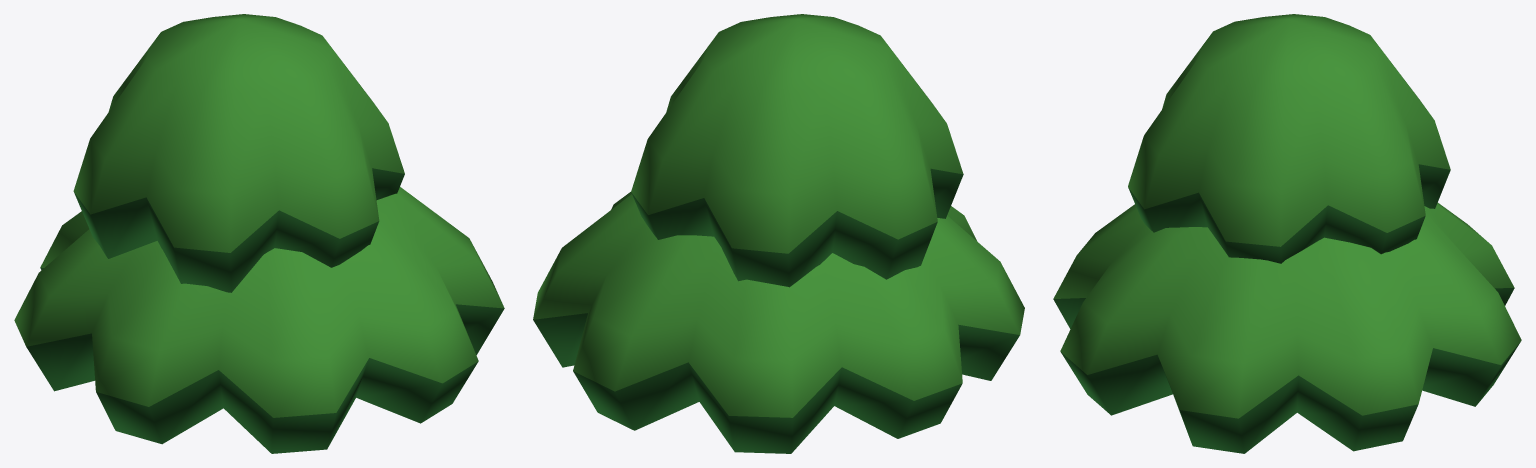
The model's file is bush_3.glb.
The picture shows the model from 3 angles, left to right: view 1: azimuth 30°, elevation 25°; view 2: azimuth 150°, elevation 25°; view 3: azimuth 270°, elevation 25°; orthographic projection. The views are drawn at different scales.
Parts seen in each view (by area): view 1: Prop; view 2: Prop; view 3: Prop.
Part boxes in pixels (box(x1,y1,x2,y2)): Prop: box(14, 14, 504, 453); Prop: box(533, 14, 1024, 453); Prop: box(1053, 14, 1521, 453).
Size of the model in its own units: 1.44 by 1.15 by 1.44.
